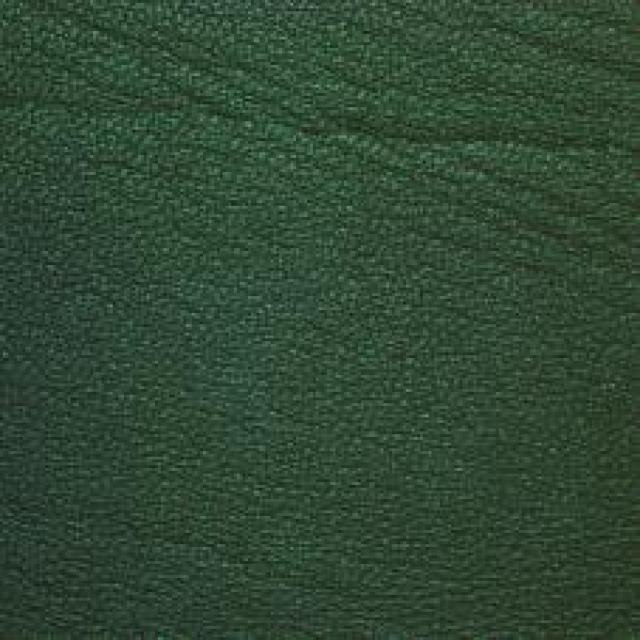Growth Marks: (47, 30, 355, 150), (389, 81, 617, 201)
